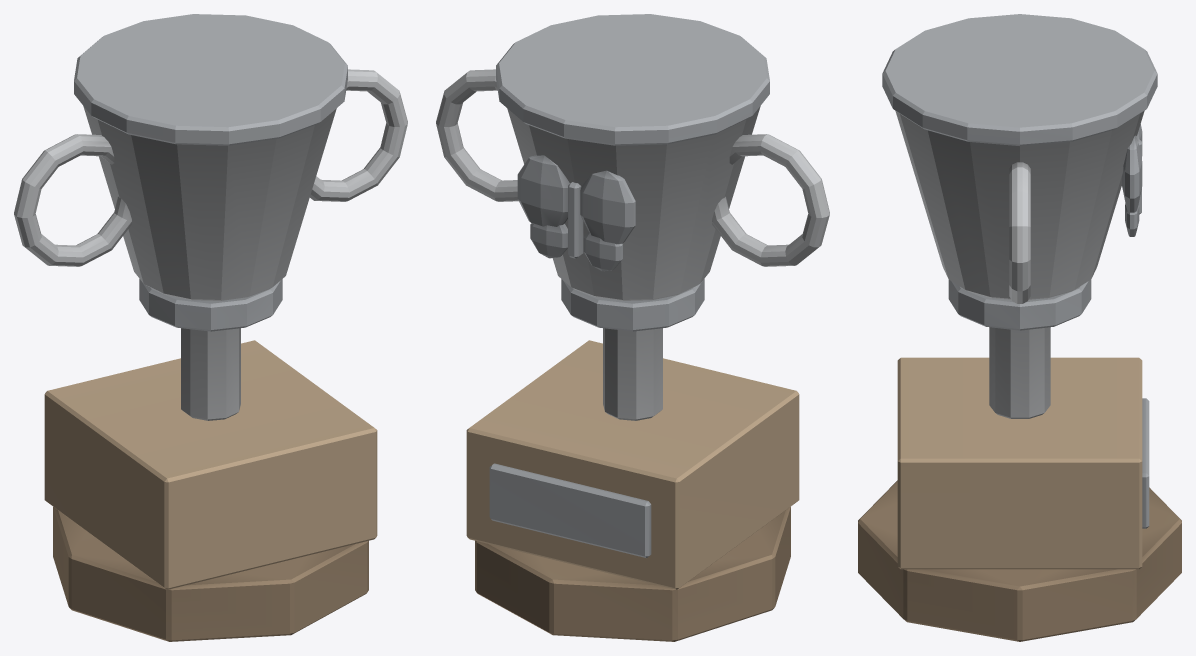
The model's file is event_trophy_bug_silver.glb.
The picture shows the model from 3 angles, left to right: view 1: azimuth 30°, elevation 25°; view 2: azimuth 150°, elevation 25°; view 3: azimuth 270°, elevation 25°; orthographic projection.
Size of the model in its own units: 0.441 by 0.545 by 0.3177.
